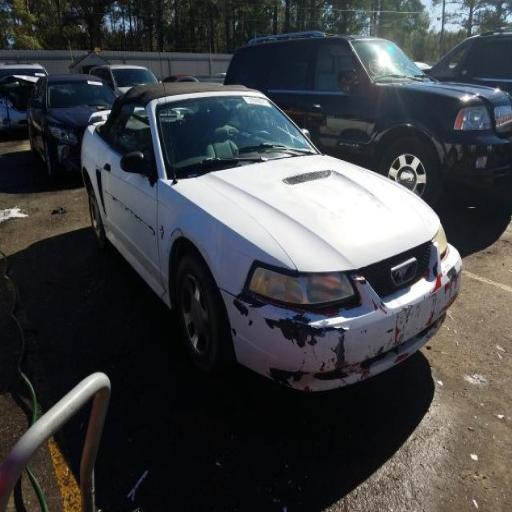rust: (255, 308, 338, 352), (328, 328, 378, 380), (381, 304, 417, 371), (264, 358, 322, 392), (230, 289, 257, 322)
